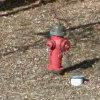Hydrant: (42, 13, 73, 77)
